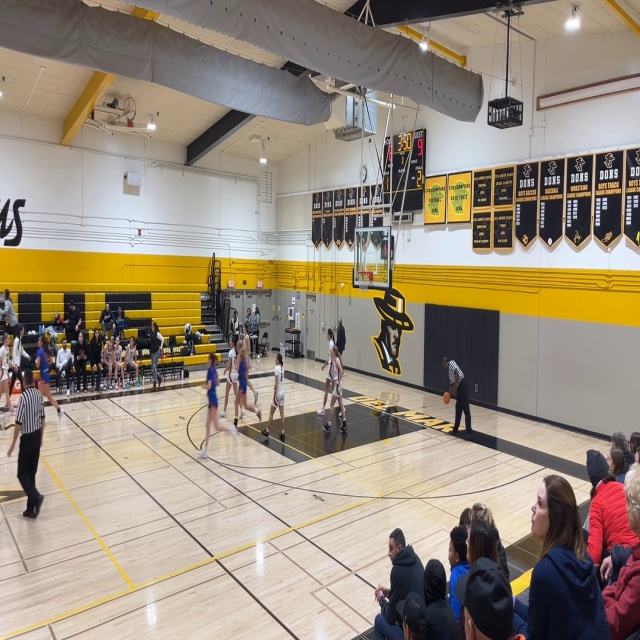Basketball: (443, 391, 450, 404)
